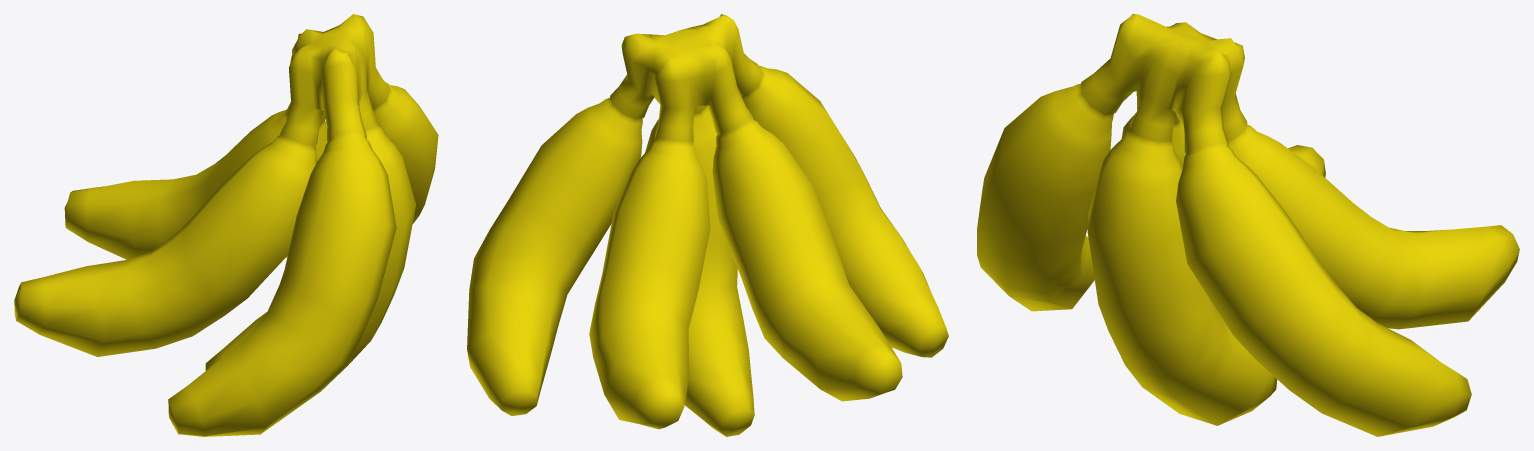
The model's file is BananasBarril.fbx.
3 views of the same model, side by side, from view 1: azimuth 30°, elevation 25°; view 2: azimuth 150°, elevation 25°; view 3: azimuth 270°, elevation 25° (orthographic). The views are drawn at different scales.
Parts seen in each view (by area): view 1: BANANAScacho; view 2: BANANAScacho; view 3: BANANAScacho.
Part boxes in pixels (box(x1,y1,x2,y2)): BANANAScacho: box(14, 14, 438, 436); BANANAScacho: box(467, 14, 948, 436); BANANAScacho: box(977, 14, 1519, 436).
Bounding box in the file's own units: 412 × 356 × 417.
